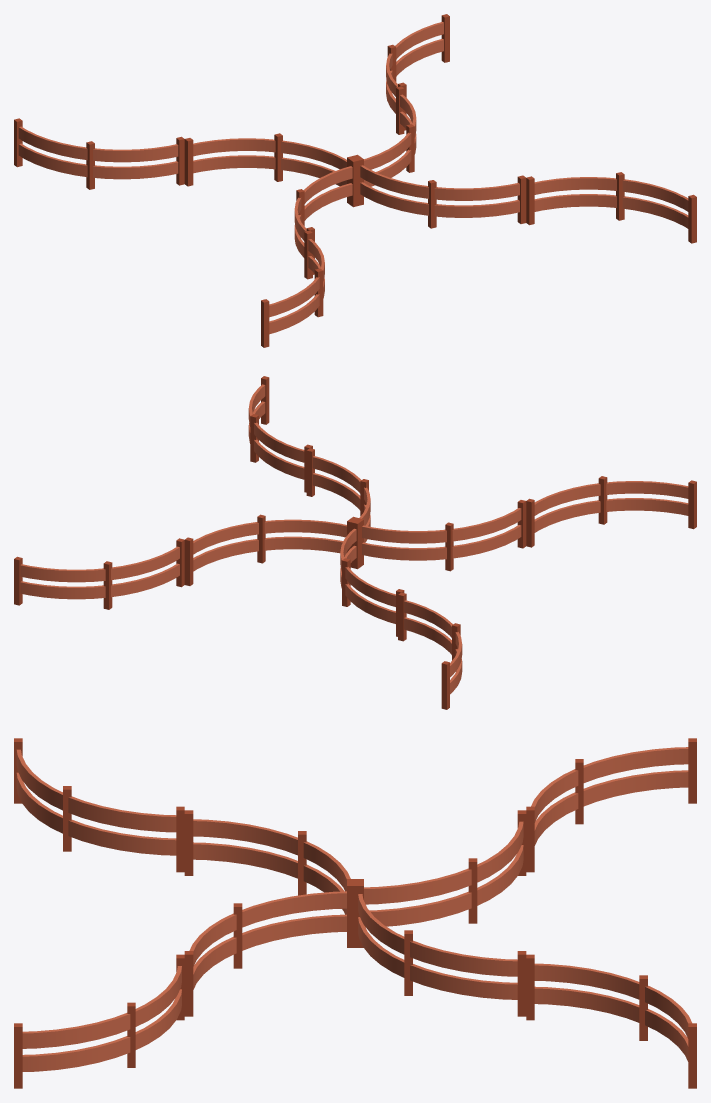
File: fencespinner.fbx
The picture shows the model from 3 angles, top to bottom: view 1: azimuth 30°, elevation 25°; view 2: azimuth 150°, elevation 25°; view 3: azimuth 270°, elevation 25°; orthographic projection. The views are drawn at different scales.
Parts seen in each view (by area): view 1: mergedBlocks; view 2: mergedBlocks; view 3: mergedBlocks.
Boxes of the visible parts, x1,y1,x2,y2 form: mergedBlocks: [14, 14, 696, 347]; mergedBlocks: [14, 376, 696, 709]; mergedBlocks: [14, 738, 696, 1088].
Size of the model in its own units: 40 by 4 by 40.
